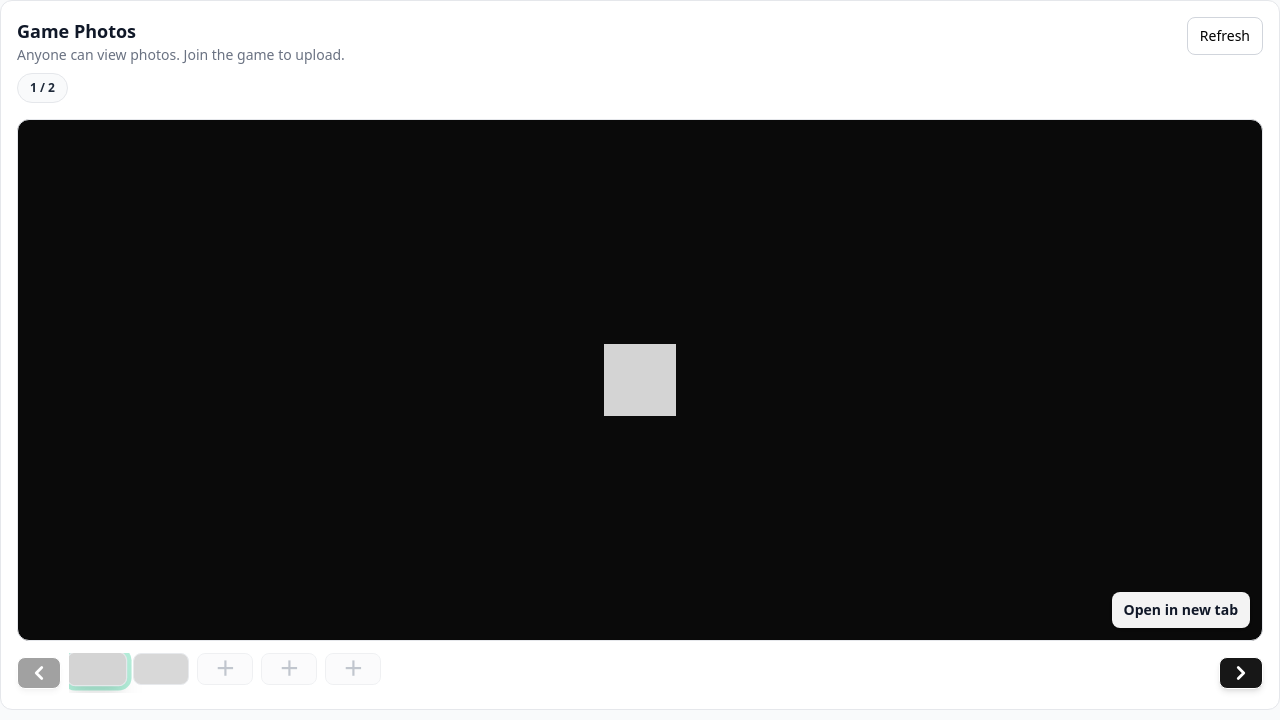
PhotosPanel Component › Prev/Next arrow behavior (slot-based) › Prev thumbnail button moves back and scrolls left by THUMB_W+16
Expected: the text "1 / 2" is shown, 17,73 -> 68,103
What coordinates should you click on to do the following:
click the button named "Next thumbnail"
I would click on:
 (1241, 673)
Its box is 1219,657 -> 1263,689.
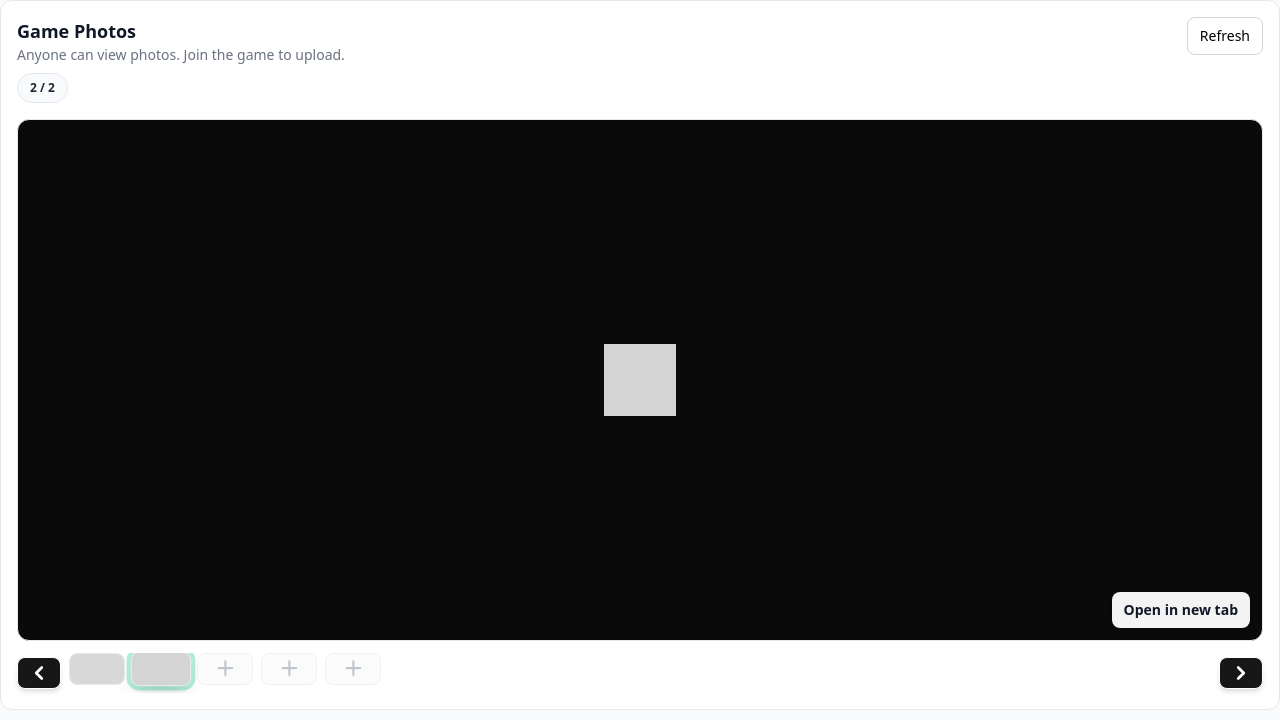
Result: the text "2 / 2" is shown at 17,73 -> 68,103
What coordinates should you click on to do the following:
click the button named "Previous thumbnail"
I would click on:
 (39, 673)
Its box is 17,657 -> 61,689.
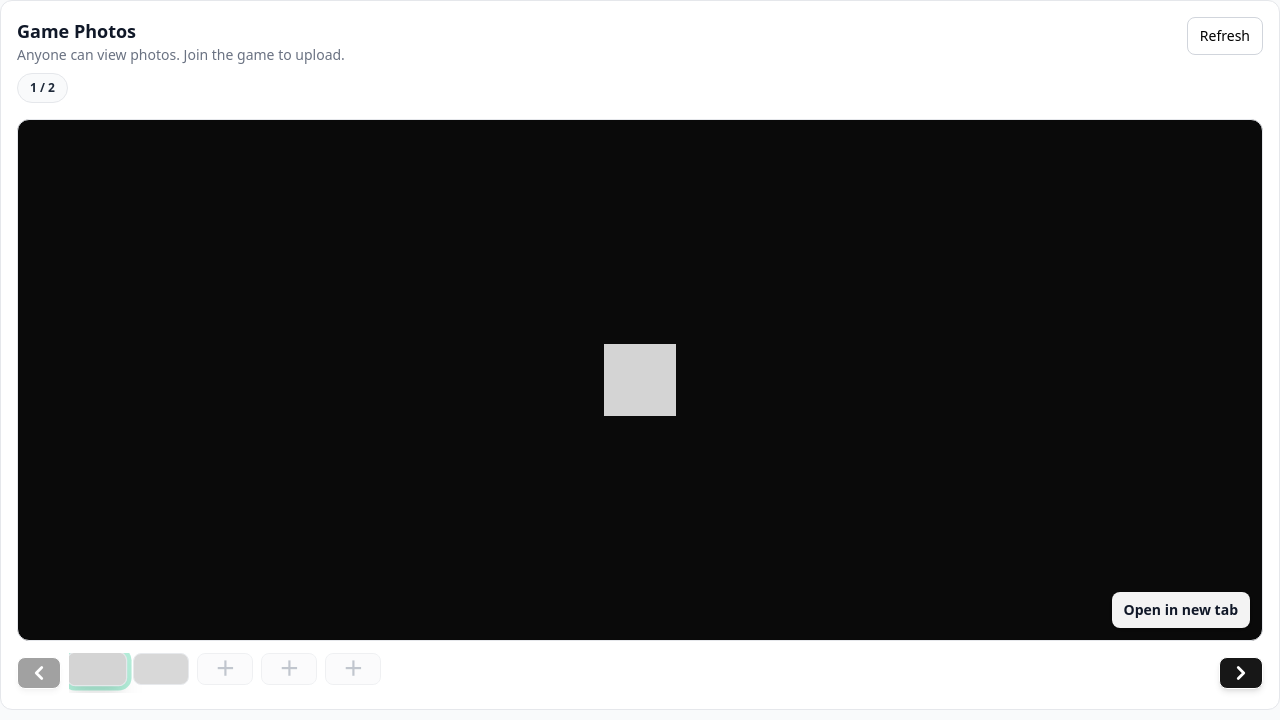
Result: the text "1 / 2" is shown at 17,73 -> 68,103
